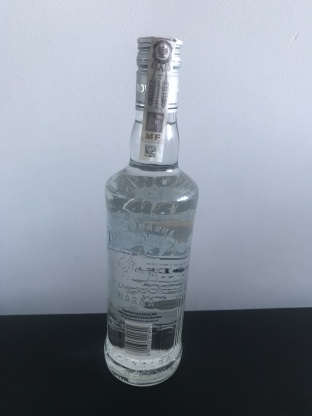nakretka: (133, 32, 184, 116)
